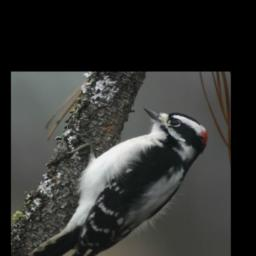Woodpecker: (22, 107, 208, 256)
